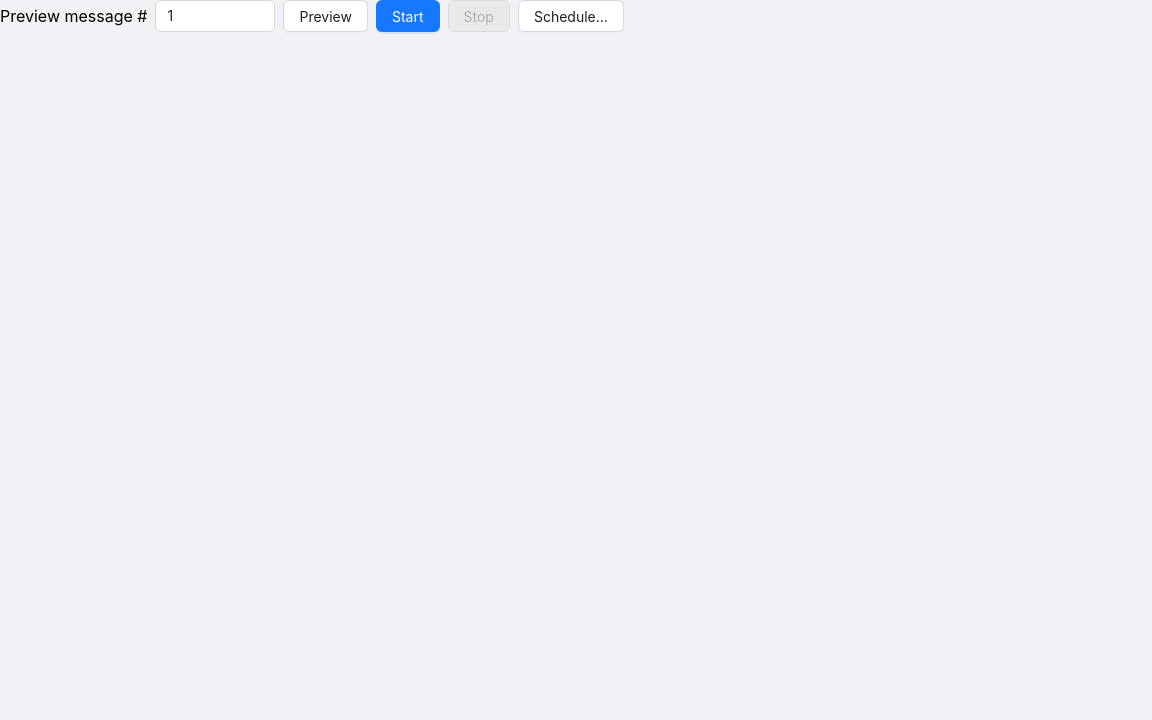
it: GeneratorActions › resolves placeholders in header values in the preview (§5.3)
Click the button "Preview" at [326, 16], box [284,0,368,32]
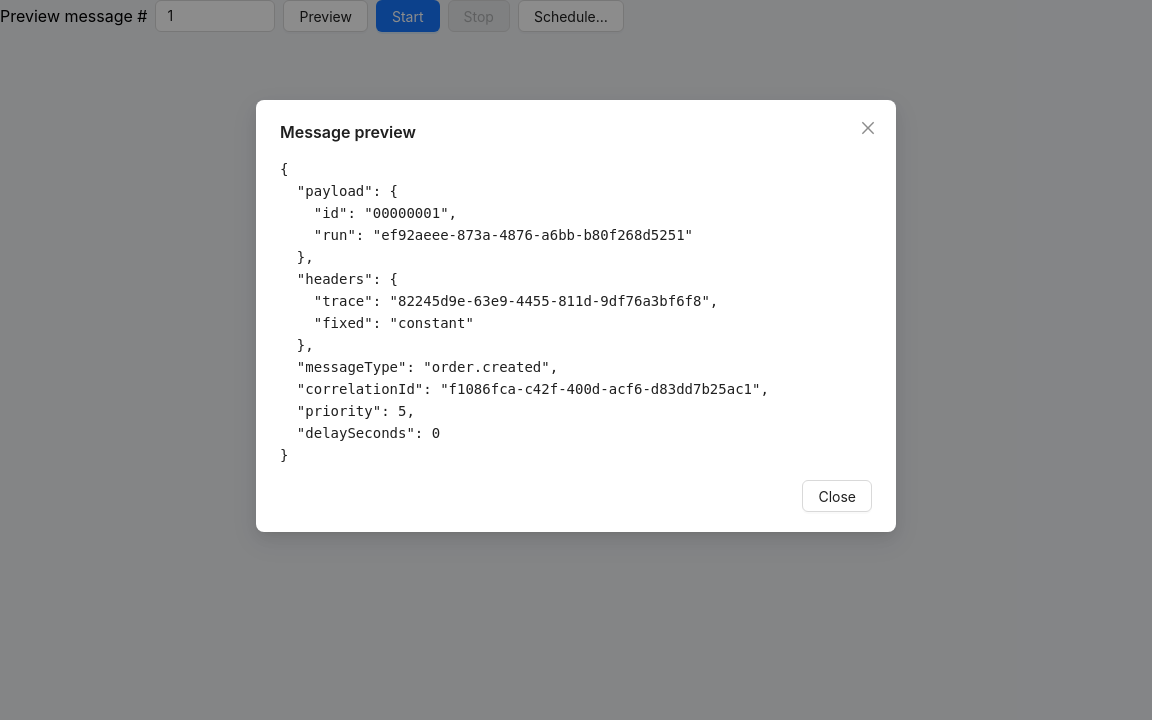
Check: the element with test id "preview-modal" shows "\"fixed\": \"constant\"", box [280,161,769,463]
